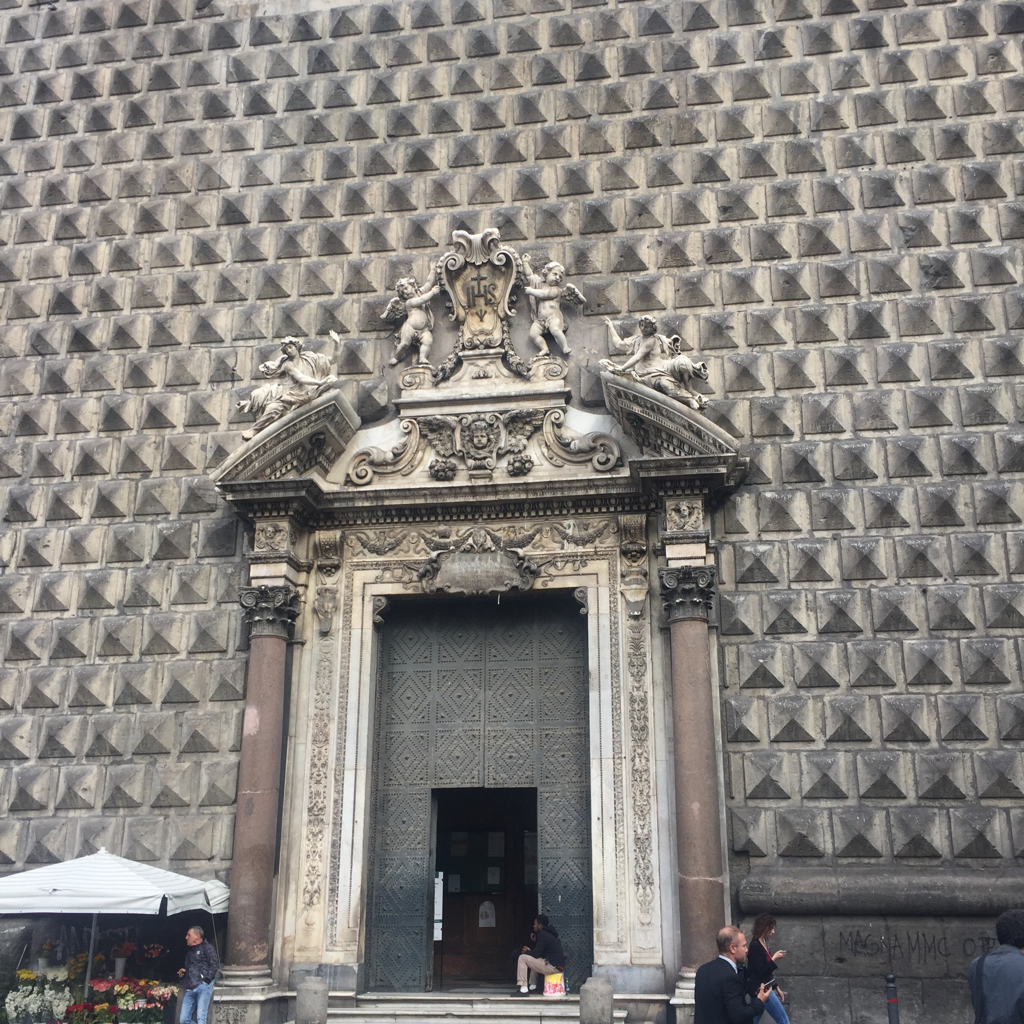fronton-partido: (213, 369, 751, 500)
vano-adintelado: (309, 539, 628, 1007)
